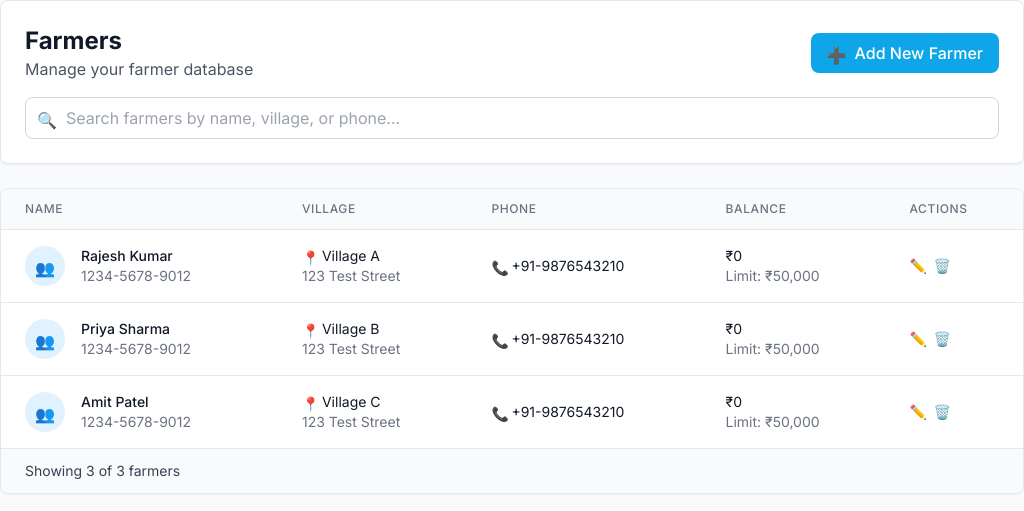
Test: FarmerList Component › Search Functionality › should filter farmers by name when searching
This screenshot has width=1024, height=511.
In the field with placeholder "Search farmers by name, village, or phone...": (512, 118) [25,97,999,139], type "Rajesh"
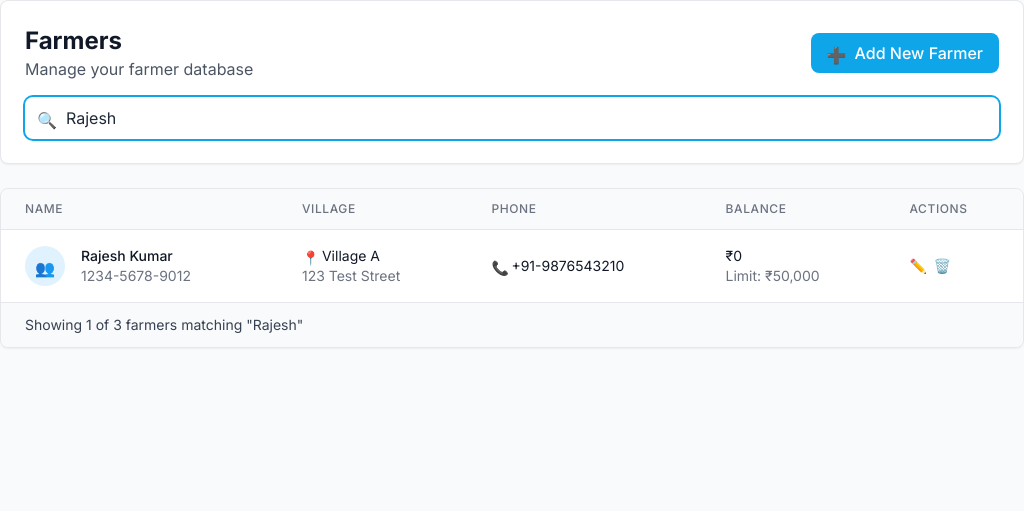
Expected: the text "Rajesh Kumar" is shown, [81,247,173,264]
Expected: the text "Priya Sharma" is gone
Expected: the text "Amit Patel" is gone
